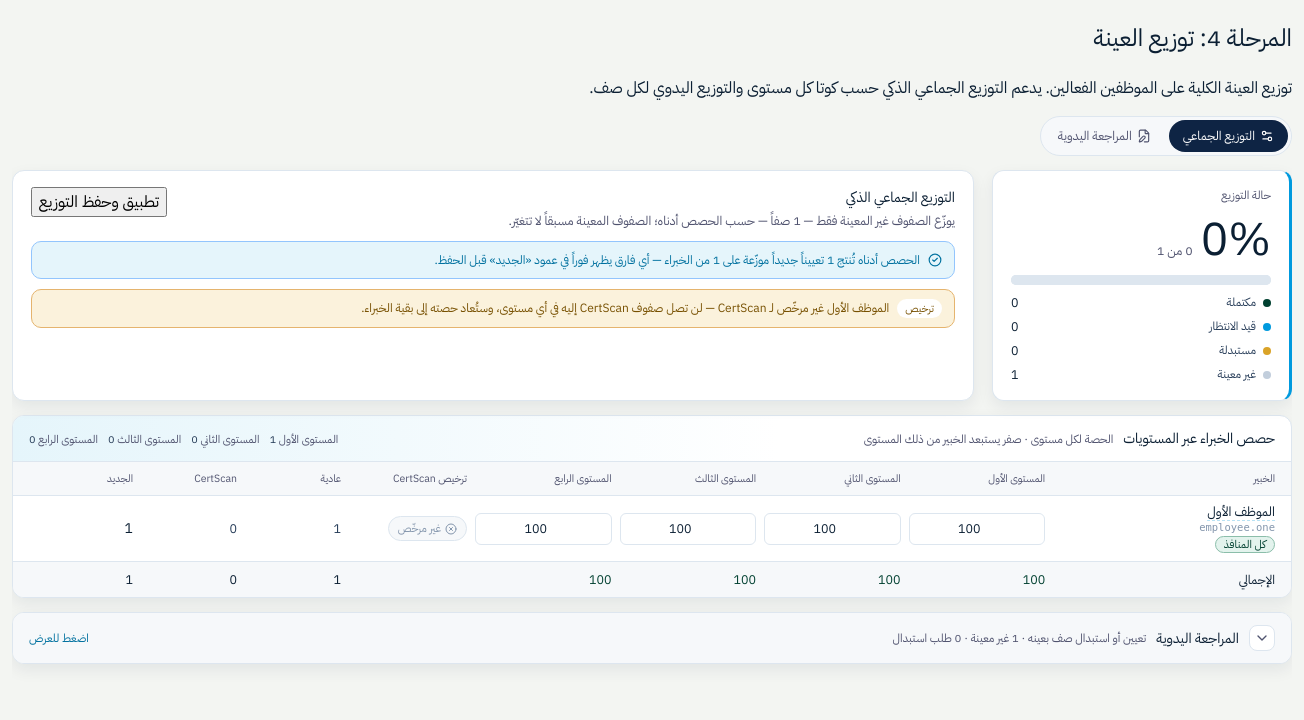
Test case: PhaseFourDistribution — حصص الخبراء matrix (5c) › the totals row flags a per-stage share that does not add up to 100
This screenshot has width=1304, height=720.
Expected: the 4th text "100" is shown, [1023,570,1045,589]
# Knock level one down to 40 — only that level is flagged.
Replace the text in the number field named "حصة الموظف الأول في المستوى الأول" with "40" at (977, 529), box [909,513,1045,545]
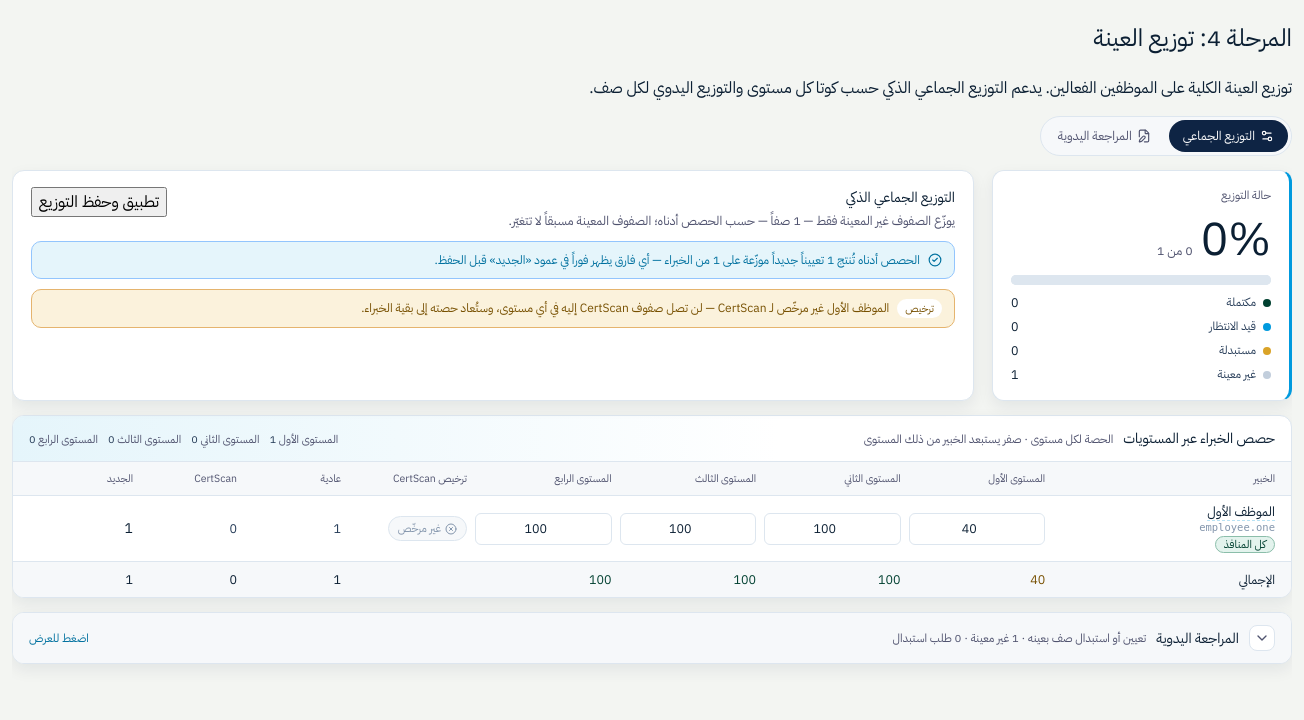
Expected: the text "40" is shown, [1030,570,1045,589]
